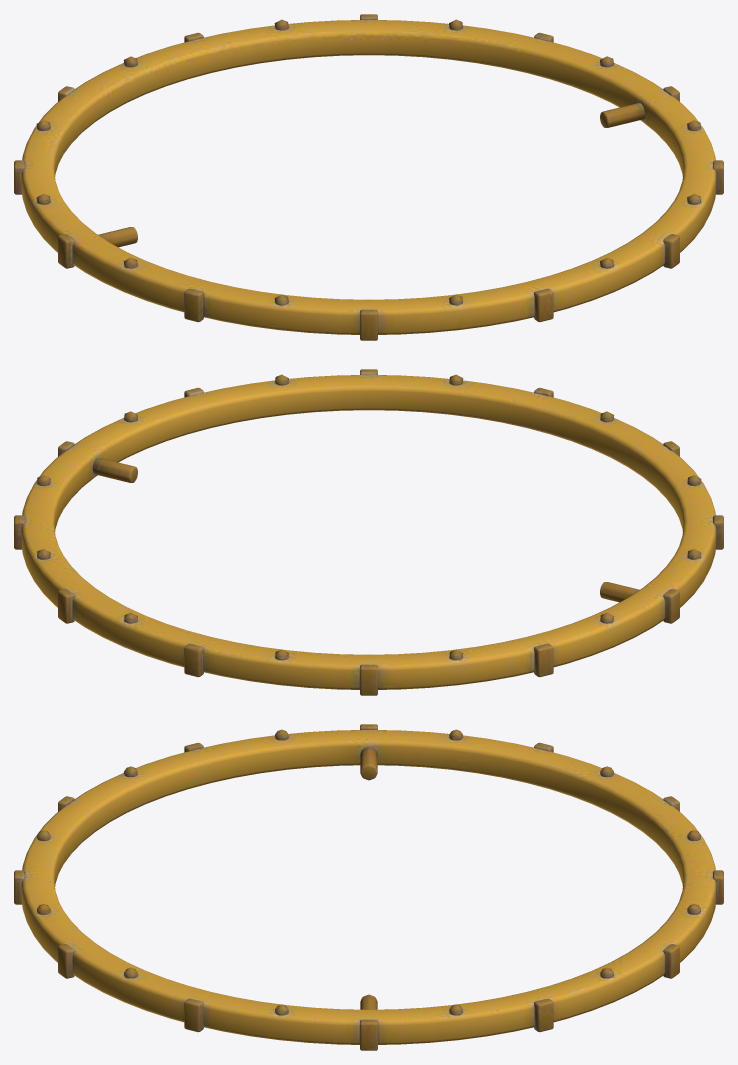
Rendered from badge_sf_ring_outer.glb.
3 renders of one model, top to bottom at view 1: azimuth 30°, elevation 25°; view 2: azimuth 150°, elevation 25°; view 3: azimuth 270°, elevation 25°, orthographic.
Visible parts, largest first — view 1: badge_sf_ring_outer; view 2: badge_sf_ring_outer; view 3: badge_sf_ring_outer.
Part boxes in pixels (bbox=[...]): badge_sf_ring_outer: bbox=[14, 14, 723, 340]; badge_sf_ring_outer: bbox=[14, 369, 723, 695]; badge_sf_ring_outer: bbox=[14, 724, 723, 1050].
Bounding box in the file's own units: 1.94 × 0.1045 × 1.94.
Materials: 1 (1 with a texture image).
